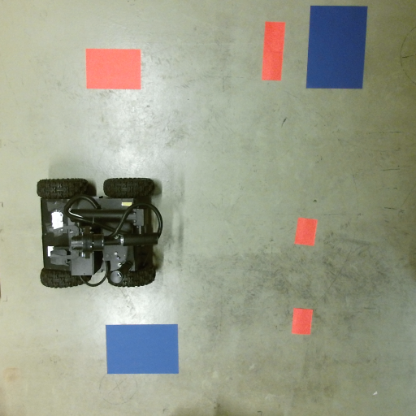Blue: (308, 5, 365, 89), (103, 323, 182, 376)
Jaguar: (33, 176, 164, 289)
Red: (82, 48, 144, 89), (261, 21, 286, 80), (293, 216, 318, 246), (290, 306, 314, 336)
